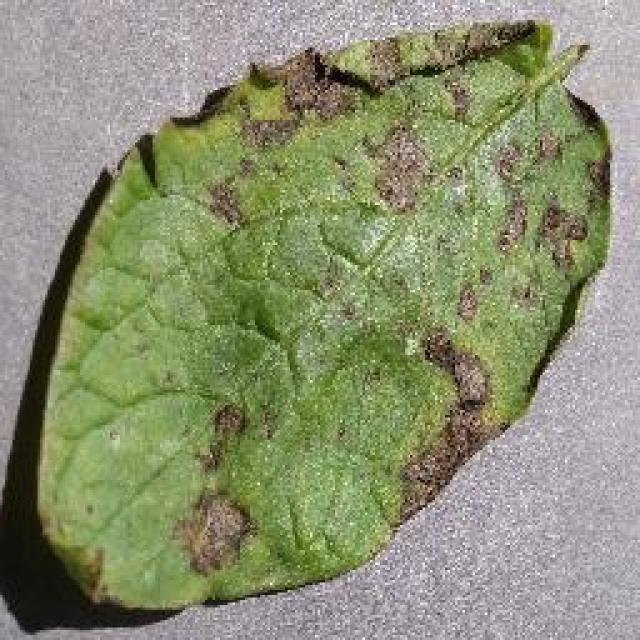Potato___Early_blight: (36, 16, 611, 612)
